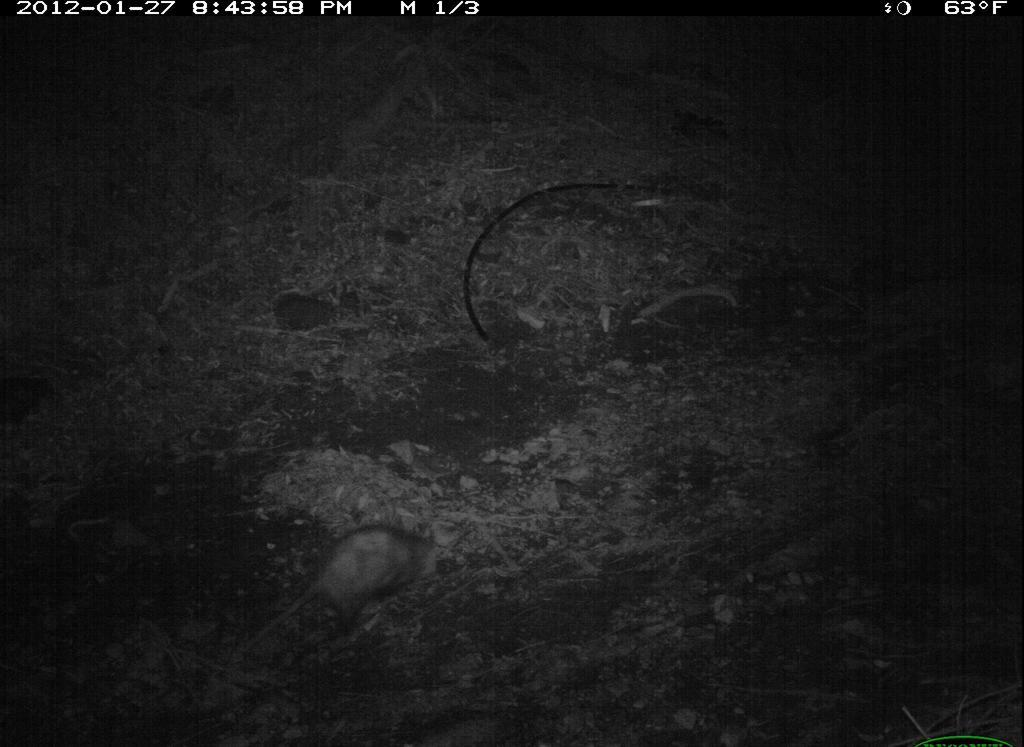opossum: (226, 515, 454, 673)
